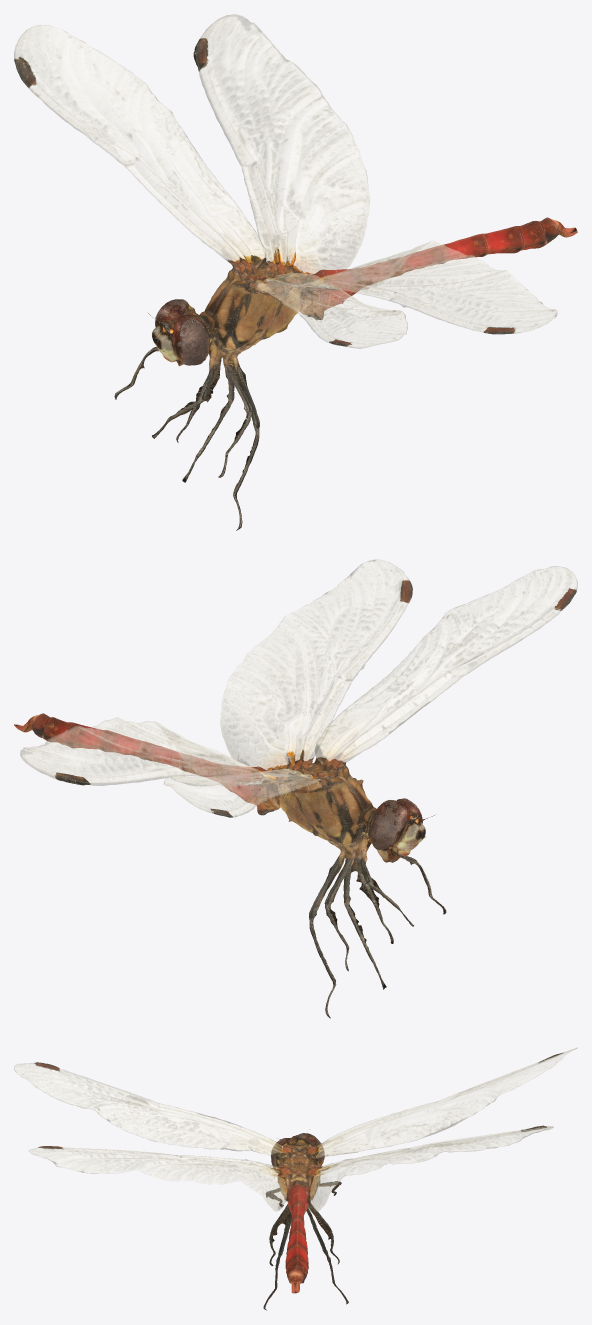
Rendered from libellule.glb.
3 renders of one model, top to bottom at view 1: azimuth 30°, elevation 25°; view 2: azimuth 150°, elevation 25°; view 3: azimuth 270°, elevation 25°, orthographic. The views are drawn at different scales.
Visible parts, largest first — view 1: combine_1; view 2: combine_1; view 3: combine_1.
Boxes of the visible parts, x1,y1,x2,y2 form: combine_1: (14, 14, 577, 530); combine_1: (14, 559, 577, 1018); combine_1: (14, 1047, 577, 1310).
Bounding box in the file's own units: 0.0408 × 0.0316 × 0.0609.
Materials: 2 (2 with a texture image).
